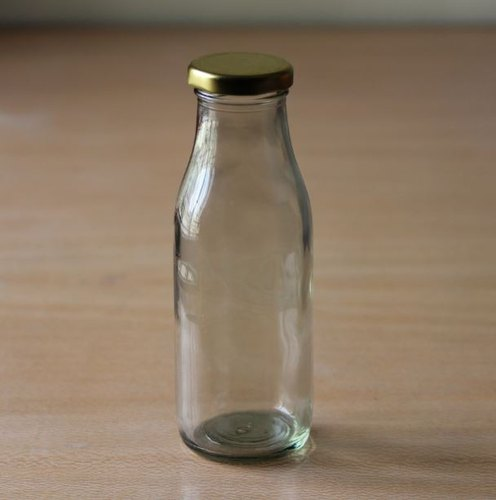glass_bottleww: (138, 30, 399, 490)
